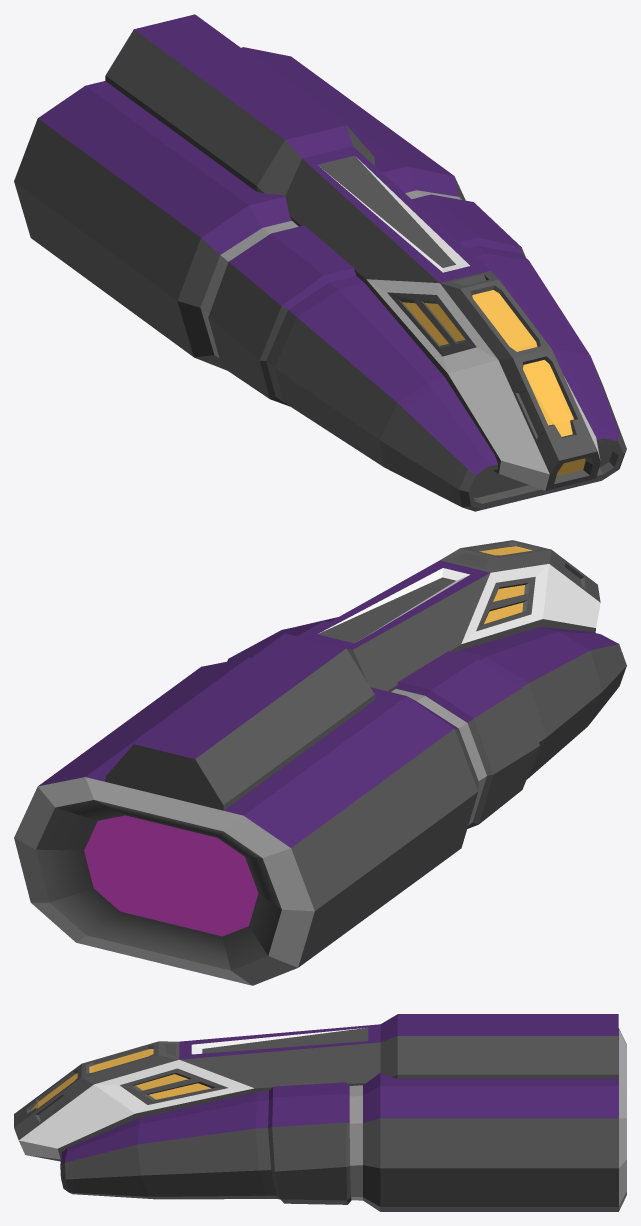
Rendered from Ship_1x2_C2.fbx.
The picture shows the model from 3 angles, top to bottom: view 1: azimuth 30°, elevation 25°; view 2: azimuth 150°, elevation 25°; view 3: azimuth 270°, elevation 25°; orthographic projection. The views are drawn at different scales.
Visible parts, largest first — view 1: Ship_1x2_C2; view 2: Ship_1x2_C2; view 3: Ship_1x2_C2.
Boxes of the visible parts, bbox=[...] form: Ship_1x2_C2: bbox=[14, 14, 626, 511]; Ship_1x2_C2: bbox=[14, 540, 626, 985]; Ship_1x2_C2: bbox=[14, 1014, 626, 1211].
Size of the model in its own units: 76.43 by 51.6 by 185.
